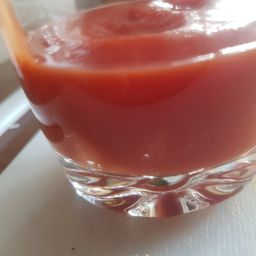Tomato paste: (7, 54, 256, 172)
